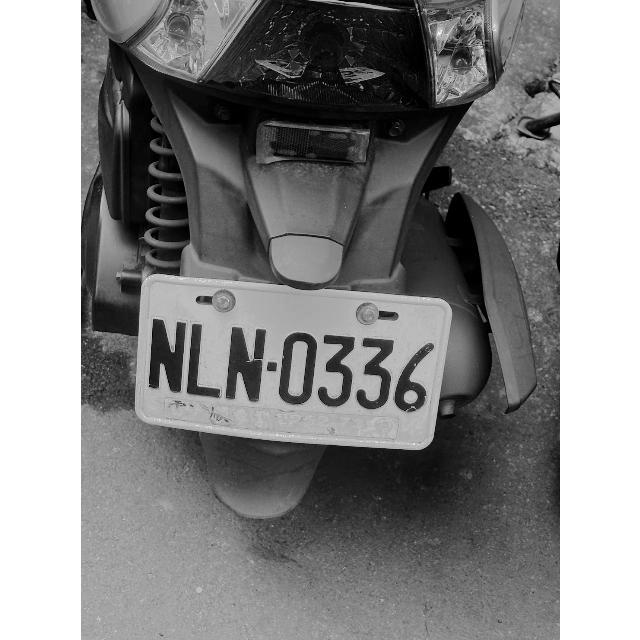-: (263, 357, 281, 378)
0: (278, 328, 316, 412)
3: (318, 330, 356, 414), (357, 332, 395, 411)
6: (395, 339, 433, 416)
L: (184, 316, 222, 402)
N: (227, 320, 267, 408), (149, 312, 185, 396)
